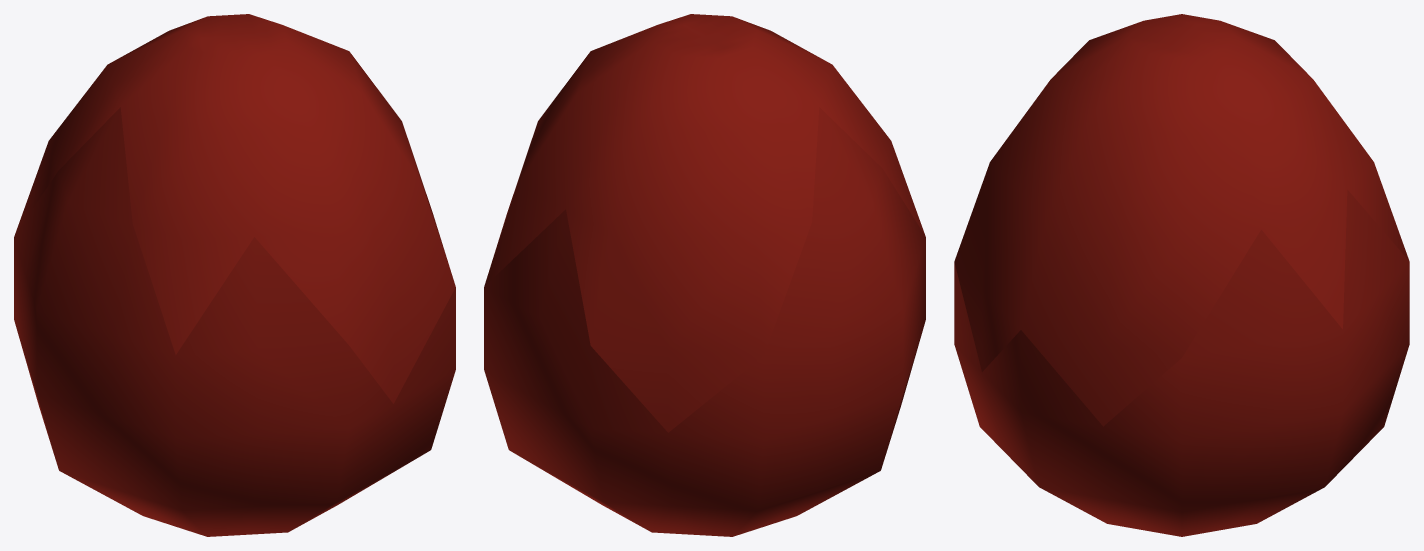
File: rozbite jajko.fbx
3 renders of one model, left to right at view 1: azimuth 30°, elevation 25°; view 2: azimuth 150°, elevation 25°; view 3: azimuth 270°, elevation 25°, orthographic.
Visible parts, largest first — view 1: Jajko_rozbite_dół, Jajko_rozbite_góra; view 2: Jajko_rozbite_góra, Jajko_rozbite_dół; view 3: Jajko_rozbite_góra, Jajko_rozbite_dół.
Boxes of the visible parts, x1,y1,x2,y2 form: Jajko_rozbite_dół: (14, 107, 455, 536); Jajko_rozbite_góra: (14, 14, 455, 403); Jajko_rozbite_góra: (484, 14, 925, 432); Jajko_rozbite_dół: (484, 107, 925, 536); Jajko_rozbite_góra: (954, 14, 1409, 426); Jajko_rozbite_dół: (954, 189, 1409, 536).
Size of the model in its own units: 2.32 by 2.56 by 2.32.
